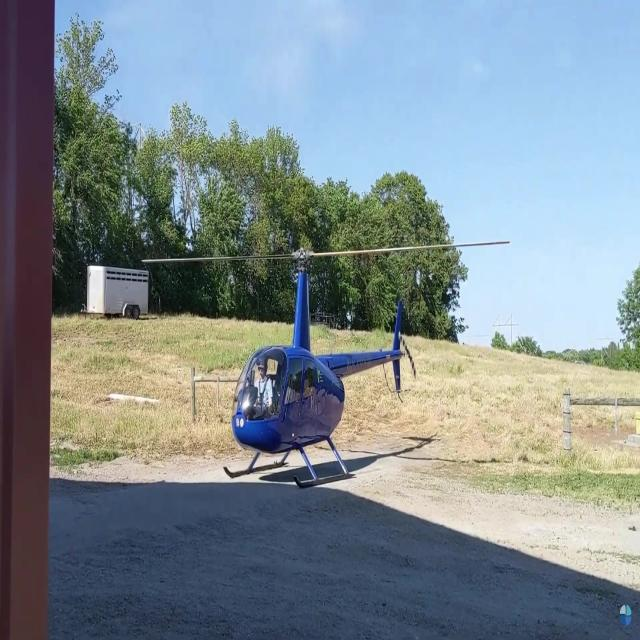CIV_HELO: (223, 244, 404, 490)
